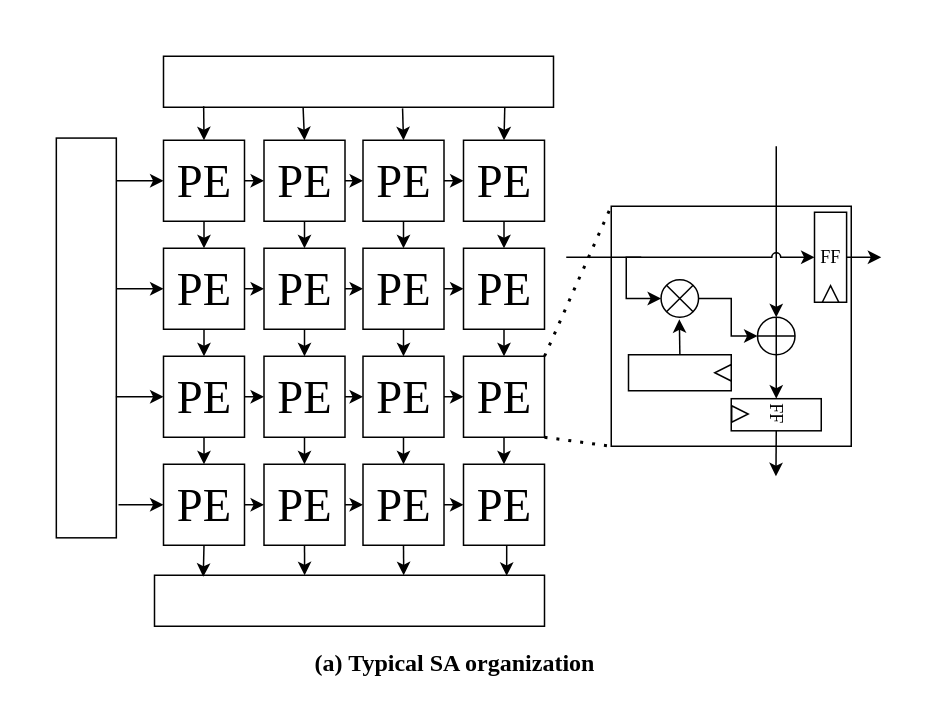
Some shapes in this 936 by 714 pixel diagram are drawn without their labels. Each missing label, with the box of its shape:
Input Buffer: (55, 137, 116, 538)
Output Buffer: (153, 574, 544, 626)
Weight: (627, 353, 731, 391)
Weight Buffer: (162, 55, 554, 107)
